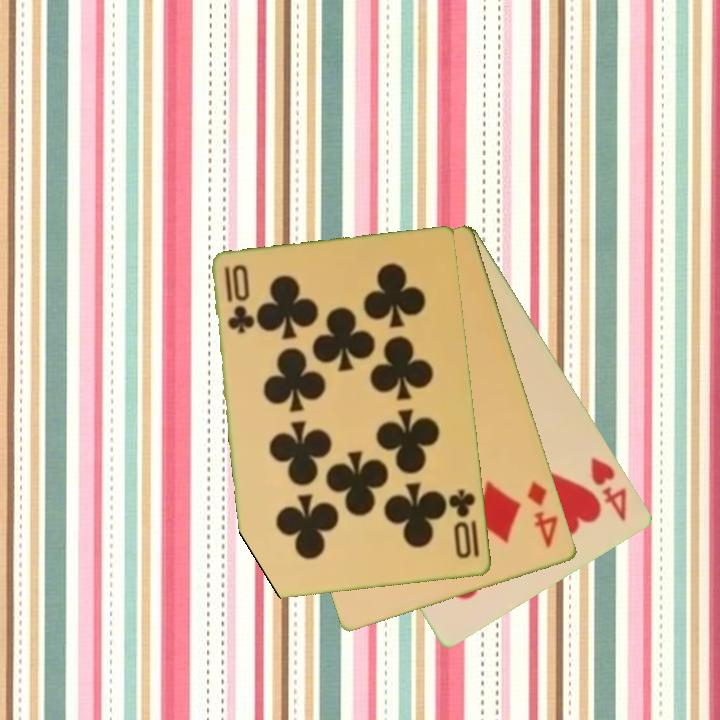10c: (446, 486, 483, 562), (221, 263, 254, 337)
4d: (524, 477, 562, 551)
4h: (587, 453, 631, 525)
